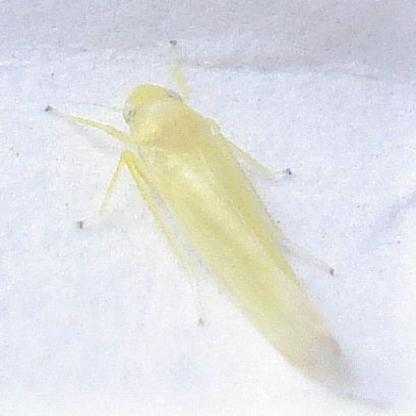green-leafhopper: (40, 53, 343, 377)
